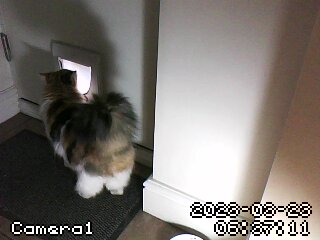clara: (30, 61, 155, 219)
